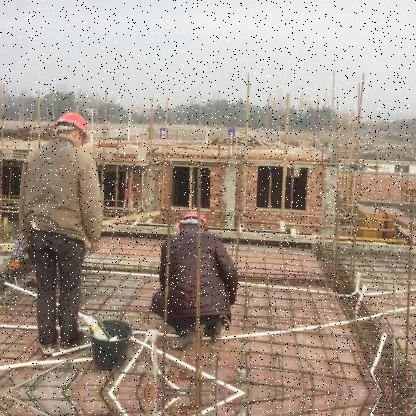Helmet: (47, 111, 92, 150), (178, 206, 210, 240)
